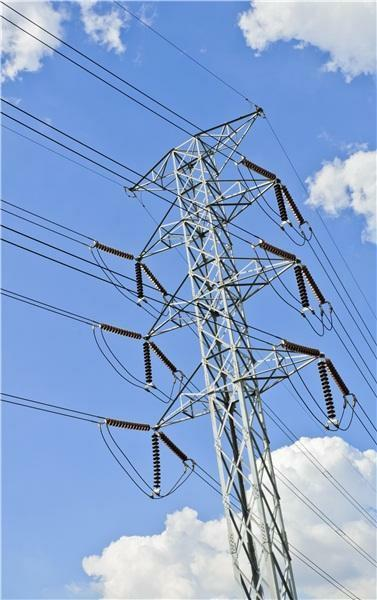power_tower: (113, 100, 351, 600)
